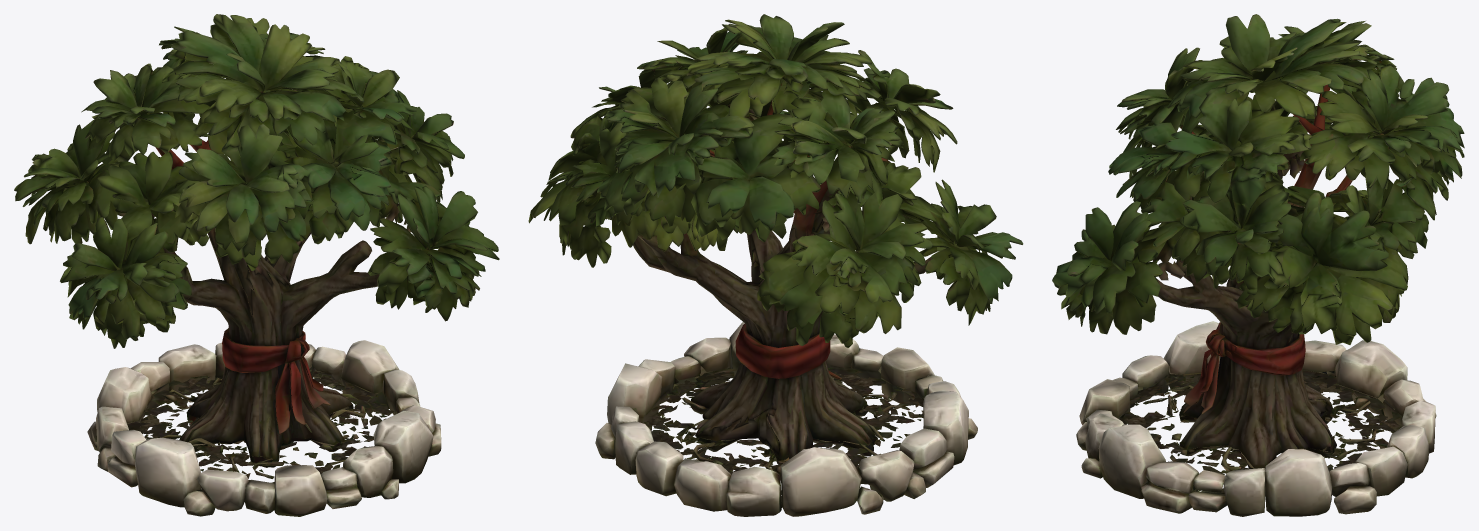
The model's file is nature_citizen-tree_stage3.glb.
3 renders of one model, left to right at view 1: azimuth 30°, elevation 25°; view 2: azimuth 150°, elevation 25°; view 3: azimuth 270°, elevation 25°, orthographic. The views are drawn at different scales.
Parts seen in each view (by area): view 1: world; view 2: world; view 3: world.
Boxes of the visible parts, x1=… form: world: x1=14, y1=14, x2=499, y2=516; world: x1=528, y1=14, x2=1023, y2=516; world: x1=1052, y1=14, x2=1464, y2=516.
Size of the model in its own units: 5.13 by 5 by 4.47.
Materials: 1 (1 with a texture image).
